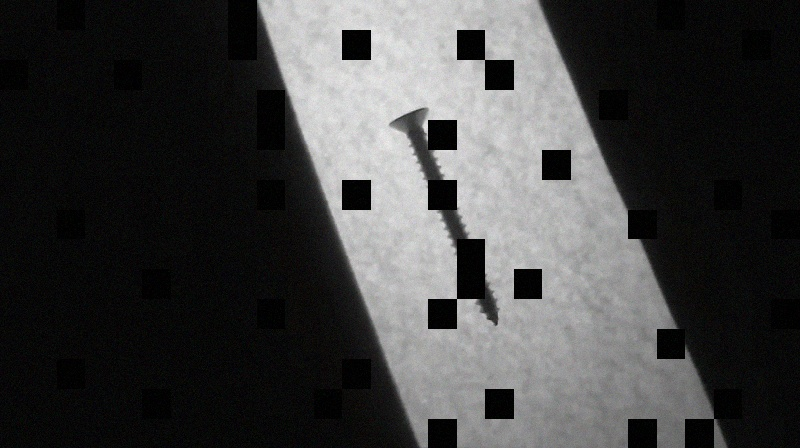S002: (386, 105, 502, 330)
